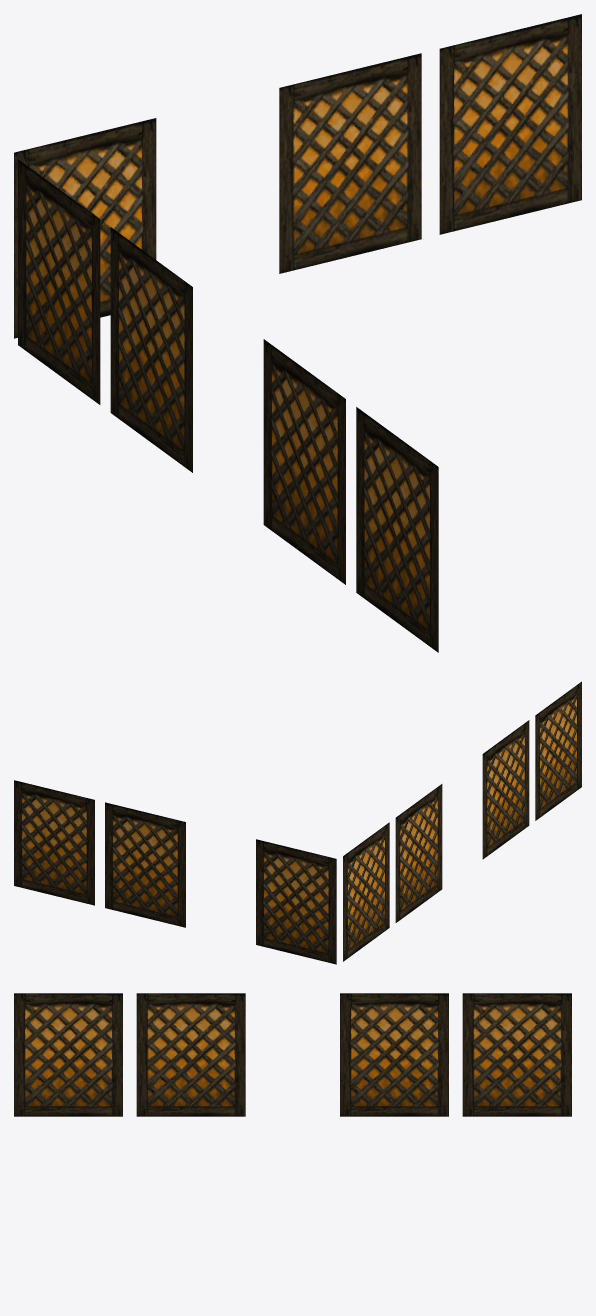
The model's file is LAKETOWN_EXTERIOR_PS_LT_WINDOWS13388.fbx.
3 renders of one model, top to bottom at view 1: azimuth 30°, elevation 25°; view 2: azimuth 150°, elevation 25°; view 3: azimuth 270°, elevation 25°, orthographic. The views are drawn at different scales.
Parts seen in each view (by area): view 1: LAKETOWN_EXTERIOR_PS_LT_WINDOWS13388; view 2: LAKETOWN_EXTERIOR_PS_LT_WINDOWS13388; view 3: LAKETOWN_EXTERIOR_PS_LT_WINDOWS13388.
Boxes of the visible parts, <box> form: LAKETOWN_EXTERIOR_PS_LT_WINDOWS13388: <box>14,14,581,652</box>; LAKETOWN_EXTERIOR_PS_LT_WINDOWS13388: <box>14,681,581,964</box>; LAKETOWN_EXTERIOR_PS_LT_WINDOWS13388: <box>14,993,571,1116</box>.
Size of the model in its own units: 42102 by 13100 by 54615.
1 material, 1 textured.
